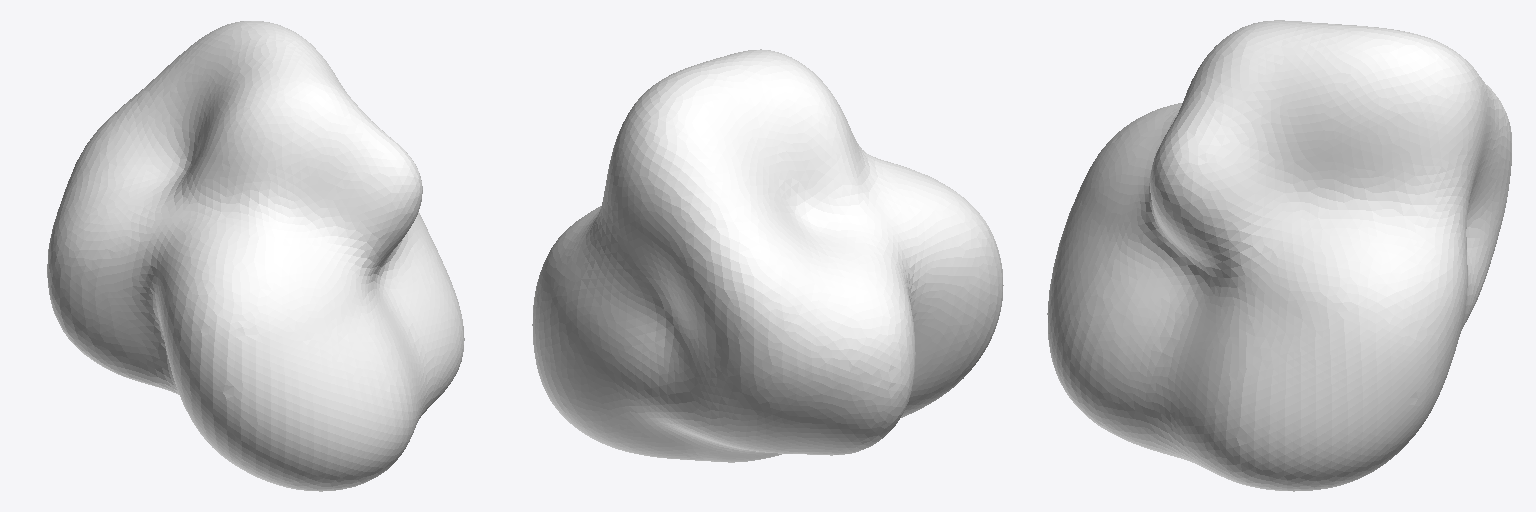
URDF robot description (BigGlaven2):
<robot name="BigGlaven2">
	<link name="_name">
		<visual>
			<origin rpy="0 0 0" xyz="-0.0013489869896732962 0.0007142514225737728 0.001681757310938927" />
			<geometry>
				<mesh filename="BigGlaven2.obj" scale="0.001 0.001 0.001" />
			</geometry>
			<material name="texture">
				<color rgba="1.0 1.0 1.0 1.0" />
			</material>
		</visual>
		<collision>
			<geometry>
				<mesh filename="BigGlaven2_vhacd.obj" scale="0.001 0.001 0.001" />
			</geometry>
		<origin rpy="0 0 0" xyz="-0.0013489869896732962 0.0007142514225737728 0.001681757310938927" /></collision>
		<inertial>
			<mass value="1.0" />
			<inertia ixx="1.0" ixy="0.0" ixz="0.0" iyy="1.0" iyz="0.0" izz="1.0" />
		</inertial>
	</link>
</robot>

--- What the picture shows (computed from the rendered views, not written in the file) ---
3 views of the same robot in one strip: view 1: azimuth 30°, elevation 25°; view 2: azimuth 150°, elevation 25°; view 3: azimuth 270°, elevation 25° (orthographic).
Model BigGlaven2 with 1 links and 0 joints (none), rooted at _name, posed every joint at zero.
Visible links, largest first — view 1: _name; view 2: _name; view 3: _name.
Link boxes in pixels (<box>): _name: <box>47,21,464,491</box>; _name: <box>532,49,1003,462</box>; _name: <box>1047,20,1511,491</box>.
Size in the robot's own frame: 0.0434 by 0.0439 by 0.0438 metres.
1 mesh visuals loaded from 1 distinct referenced files (1 OBJ).
